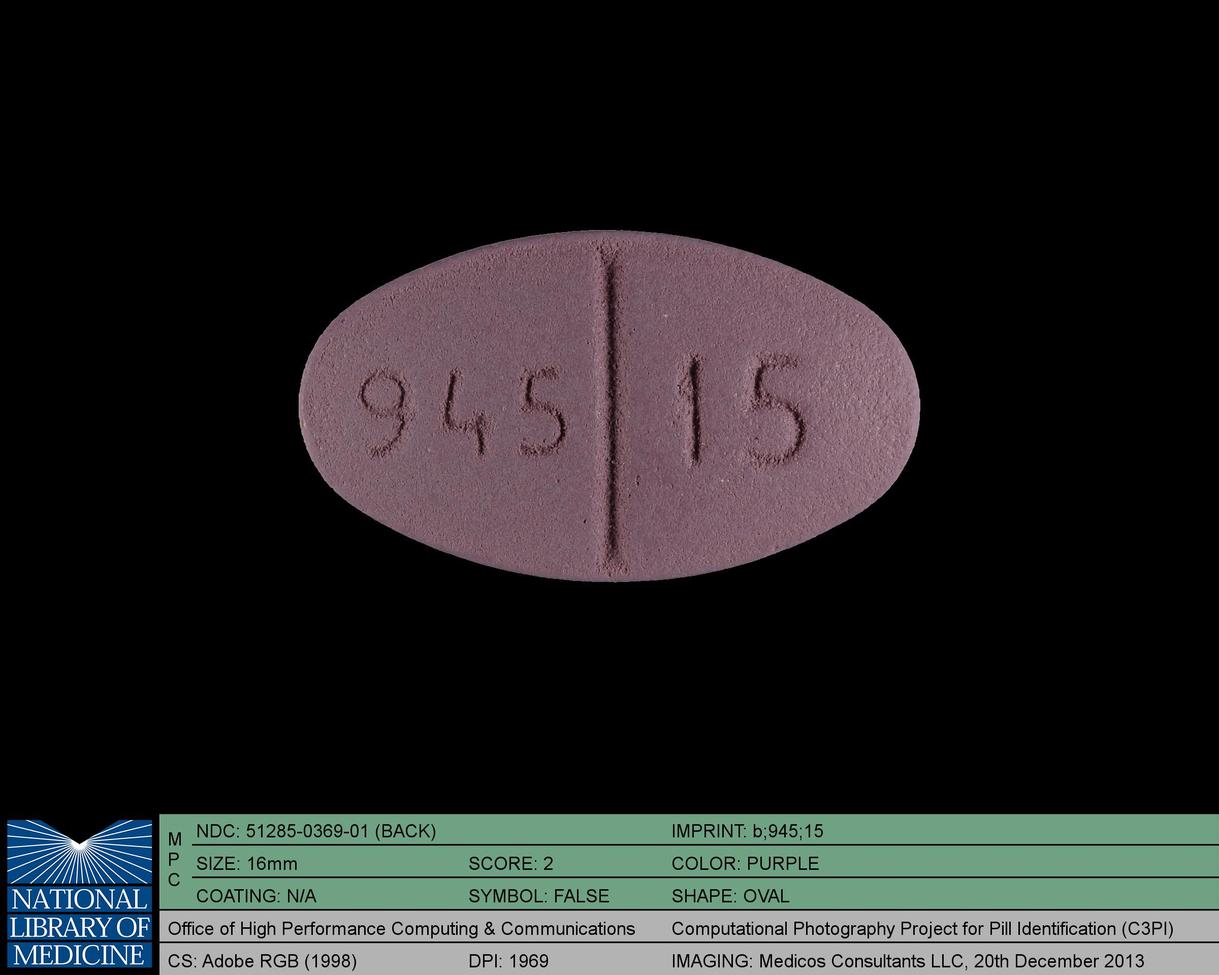Pill: (283, 210, 938, 606)
